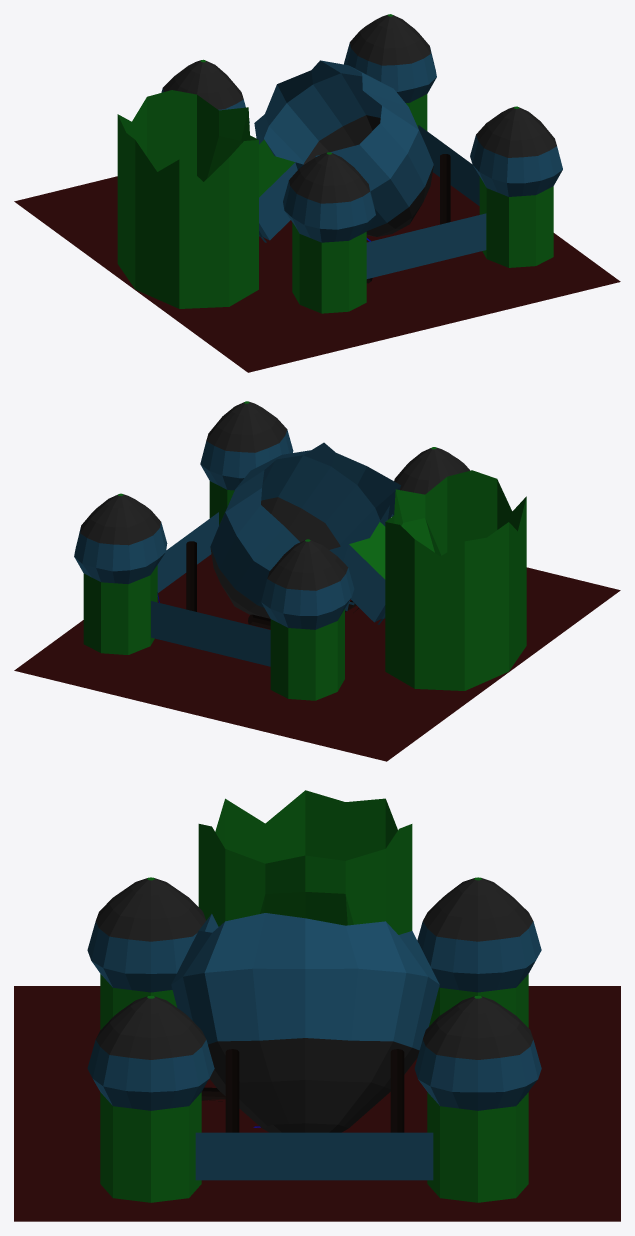
File: SwordsSmith3d.obj
3 renders of one model, top to bottom at view 1: azimuth 30°, elevation 25°; view 2: azimuth 150°, elevation 25°; view 3: azimuth 270°, elevation 25°, orthographic. The views are drawn at different scales.
Parts seen in each view (by area): view 1: Plane, Cube, Plane.004, Plane.001, Plane.002, Plane.007, Plane.005, Plane.003, Cube.001; view 2: Plane, Cube, Plane.005, Plane.002, Plane.001, Plane.008, Plane.004, Plane.003, Cube.002; view 3: Plane, Cube, Plane.002, Plane.001, Plane.005, Plane.003, Plane.004, Cube.001, Cube.002.
Boxes of the visible parts, box(x1,y1,x2,y2) form: Plane: box(117, 60, 433, 308); Cube: box(14, 172, 620, 372); Plane.004: box(283, 152, 375, 313); Plane.001: box(470, 106, 562, 267); Plane.002: box(344, 14, 436, 130); Plane.007: box(366, 213, 486, 278); Plane.005: box(161, 59, 249, 122); Plane.003: box(418, 125, 479, 205); Cube.001: box(440, 154, 450, 224); Plane: box(210, 442, 526, 690); Cube: box(14, 554, 620, 761); Plane.005: box(261, 539, 354, 700); Plane.002: box(74, 493, 167, 654); Plane.001: box(200, 401, 293, 525); Plane.008: box(151, 601, 270, 666); Plane.004: box(391, 447, 469, 516); Plane.003: box(157, 512, 218, 592); Cube.002: box(186, 541, 196, 611); Plane: box(171, 790, 439, 1132); Cube: box(14, 986, 620, 1221); Plane.002: box(414, 996, 541, 1202); Plane.001: box(87, 996, 214, 1202); Plane.005: box(417, 877, 541, 1027); Plane.003: box(195, 1132, 433, 1180); Plane.004: box(87, 877, 206, 1029); Cube.001: box(225, 1049, 239, 1132); Cube.002: box(390, 1049, 404, 1132).
Size of the model in its own units: 1.22 by 0.5169 by 1.33.
